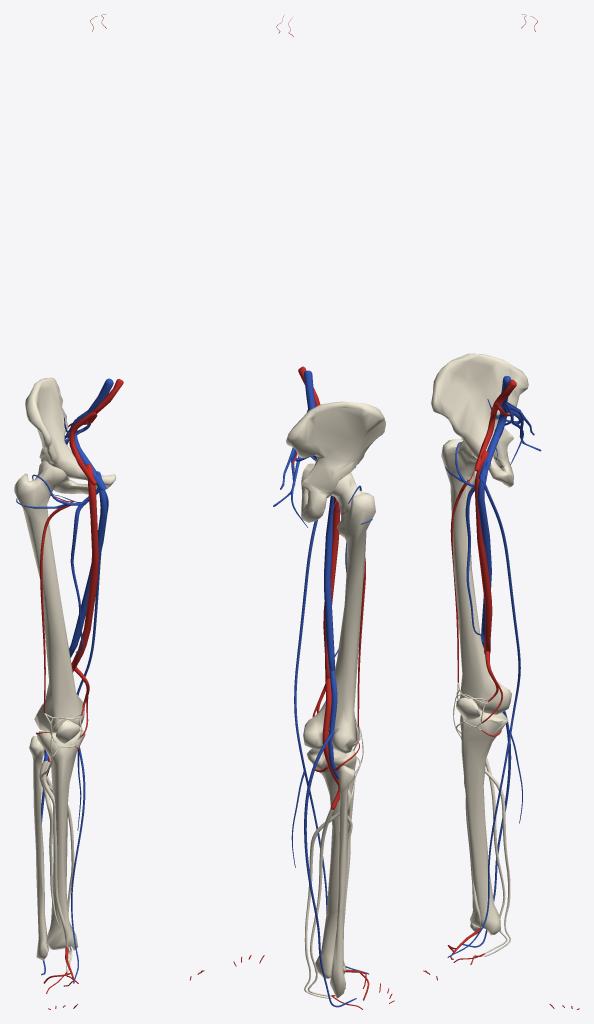
Rendered from gefbein.glb.
The picture shows the model from 3 angles, left to right: view 1: azimuth 30°, elevation 25°; view 2: azimuth 150°, elevation 25°; view 3: azimuth 330°, elevation 25°; orthographic projection. The views are drawn at different scales.
Visible parts, largest first — view 1: Right femur, Right tibia, Right hip bone, Right fibula, Right femoral artery, Right great saphenous vein, Right femoral vein, Right anterior tibial artery, Descending branch of right lateral circumflex femoral artery, Right deep femoral vein, Right anterior tibial vein, Right external iliac artery; view 2: Right femur, Right hip bone, Right tibia, Right fibula, Right great saphenous vein, Right femoral vein, Right small saphenous vein, Right femoral artery, Right posterior tibial artery, Right popliteal artery, Right posterior tibial vein, Right popliteal vein (+1 smaller); view 3: Right hip bone, Right femur, Right tibia, Right great saphenous vein, Right femoral artery, Right femoral vein, Right posterior tibial vein, Right posterior tibial artery, Right deep femoral vein, Right small saphenous vein, Right external iliac vein, Descending branch of right lateral circumflex femoral artery (+2 smaller).
Boxes of the visible parts, x1,y1,x2,y2 form: Right femur: [14, 460, 84, 732]; Right tibia: [37, 730, 85, 950]; Right hip bone: [25, 377, 116, 494]; Right fibula: [29, 736, 48, 960]; Right femoral artery: [71, 464, 98, 669]; Right great saphenous vein: [71, 490, 108, 983]; Right femoral vein: [69, 489, 107, 657]; Right anterior tibial artery: [42, 762, 68, 947]; Descending branch of right lateral circumflex femoral artery: [40, 502, 73, 713]; Right deep femoral vein: [70, 471, 102, 652]; Right anterior tibial vein: [39, 760, 59, 927]; Right external iliac artery: [69, 411, 96, 485]; Right femur: [303, 472, 375, 753]; Right hip bone: [286, 401, 385, 522]; Right tibia: [307, 748, 356, 978]; Right fibula: [330, 765, 355, 998]; Right great saphenous vein: [291, 519, 369, 974]; Right femoral vein: [324, 495, 334, 673]; Right small saphenous vein: [304, 730, 356, 1007]; Right femoral artery: [323, 496, 340, 680]; Right posterior tibial artery: [307, 808, 333, 996]; Right popliteal artery: [322, 678, 339, 809]; Right posterior tibial vein: [304, 811, 339, 998]; Right popliteal vein: [328, 670, 338, 780]; Right hip bone: [431, 353, 528, 487]; Right femur: [441, 439, 511, 714]; Right tibia: [460, 709, 508, 935]; Right great saphenous vein: [447, 479, 522, 957]; Right femoral artery: [474, 450, 492, 652]; Right femoral vein: [477, 472, 491, 644]; Right posterior tibial vein: [484, 769, 510, 956]; Right posterior tibial artery: [485, 757, 507, 953]; Right deep femoral vein: [465, 461, 490, 635]; Right small saphenous vein: [460, 711, 511, 947]; Right external iliac vein: [478, 406, 507, 479]; Descending branch of right lateral circumflex femoral artery: [450, 480, 469, 682].
Size of the model in its own units: 0.2892 by 1.63 by 0.1792.
